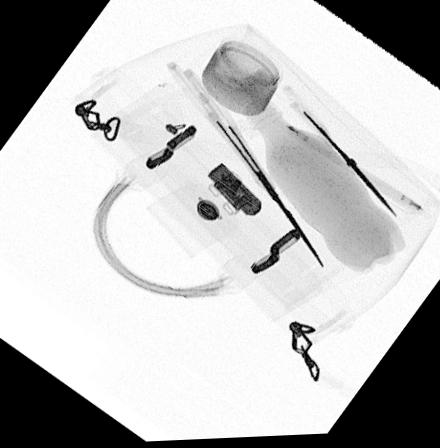Scissors: (161, 61, 324, 276), (295, 109, 401, 223)
